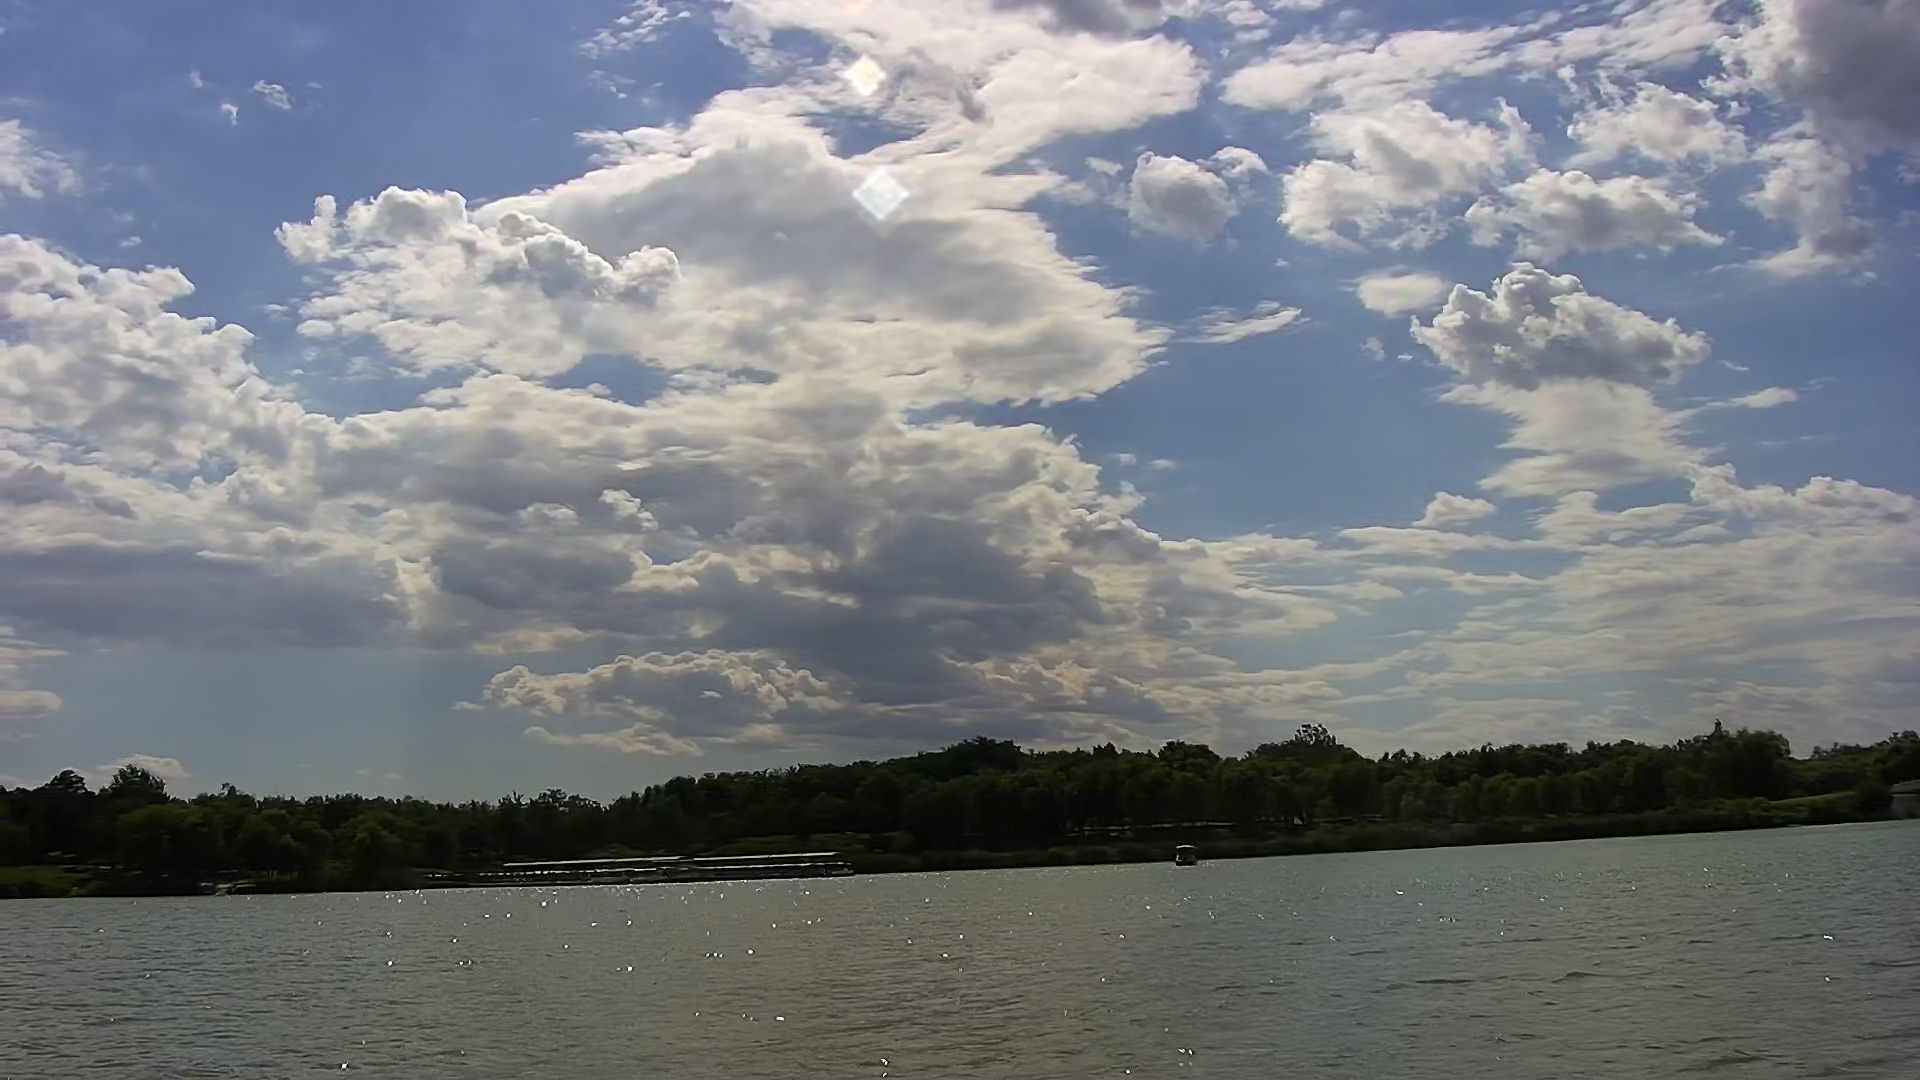boat: (1170, 835, 1200, 872)
harbor: (496, 849, 851, 886)
